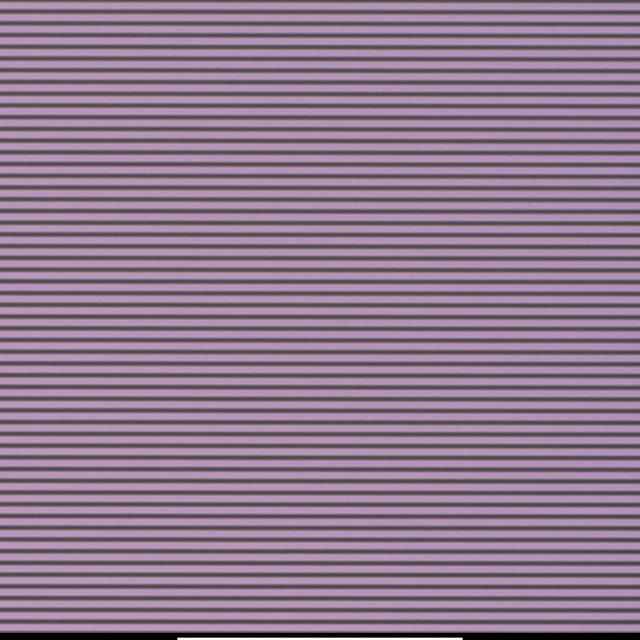nonvisual: (344, 317, 347, 323)
